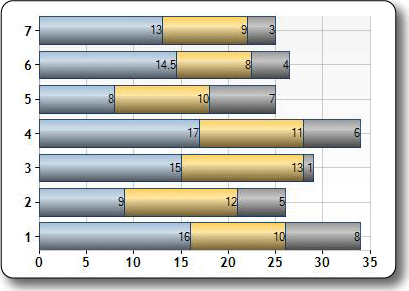canvas: (42, 13, 366, 247)
x-axis: (37, 249, 376, 254)
x-labels: (32, 257, 378, 269)
y-axis: (35, 14, 42, 256)
y-labels: (22, 23, 32, 247)
